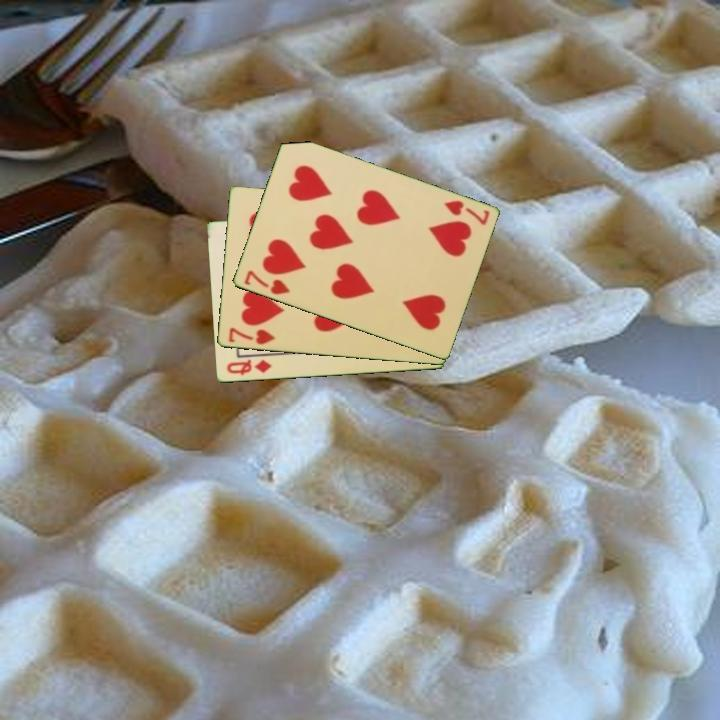7h: (240, 267, 293, 298), (440, 197, 492, 228), (225, 324, 278, 348)
Qd: (223, 356, 274, 379)
